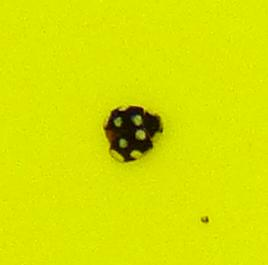Coleoptera: (100, 100, 168, 165)
